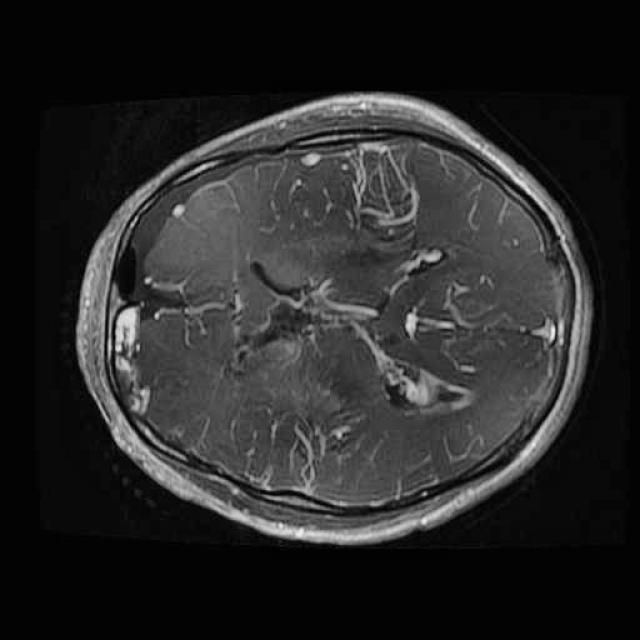Non-Tumor: (218, 222, 409, 425)
